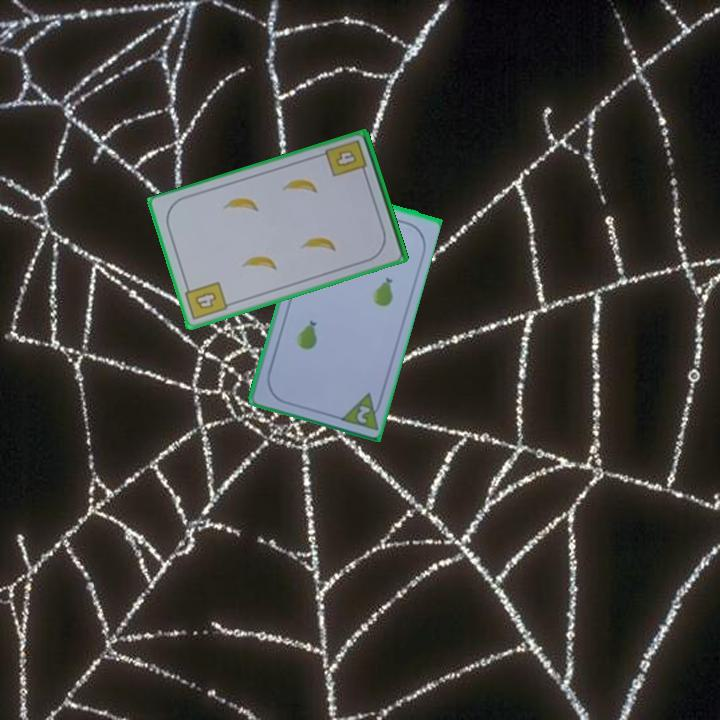2p: (335, 388, 386, 433)
4b: (181, 278, 230, 323), (322, 136, 370, 180)
